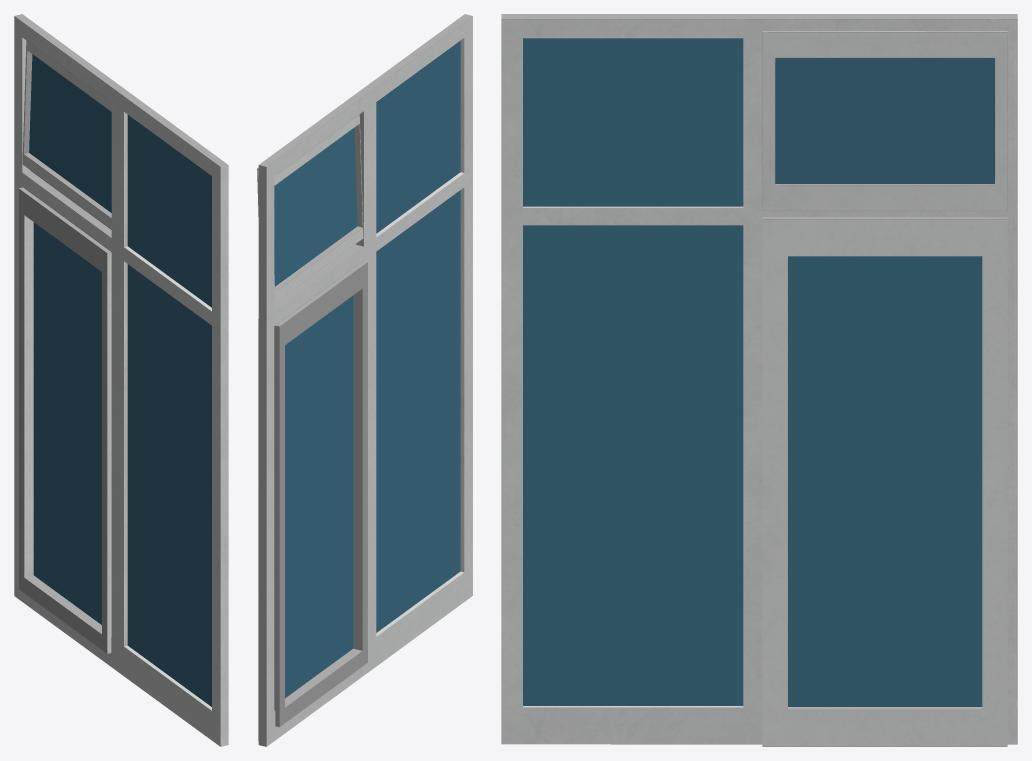
File: alu_window.glb
The picture shows the model from 3 angles, left to right: view 1: azimuth 30°, elevation 25°; view 2: azimuth 150°, elevation 25°; view 3: azimuth 270°, elevation 25°; orthographic projection. The views are drawn at different scales.
Visible parts, largest first — view 1: frameBody_low, glassLeftBottom_low, glassRightBottom_low, frameRightBottom_low, glassLeftTop_low, glassRightTop_low, frameRightTop_low; view 2: frameBody_low, glassLeftBottom_low, glassRightBottom_low, frameRightBottom_low, glassLeftTop_low, glassRightTop_low, frameRightTop_low; view 3: glassLeftBottom_low, glassRightBottom_low, frameBody_low, frameRightBottom_low, glassLeftTop_low, glassRightTop_low, frameRightTop_low.
Boxes of the visible parts, box(x1,y1,x2,y2) form: frameBody_low: box(14, 14, 228, 746); glassLeftBottom_low: box(127, 264, 211, 706); glassRightBottom_low: box(33, 222, 101, 624); frameRightBottom_low: box(19, 187, 111, 653); glassLeftTop_low: box(127, 115, 211, 307); glassRightTop_low: box(29, 54, 111, 212); frameRightTop_low: box(22, 40, 111, 229); frameBody_low: box(258, 14, 472, 746); glassLeftBottom_low: box(376, 190, 460, 632); glassRightBottom_low: box(285, 295, 353, 698); frameRightBottom_low: box(258, 261, 367, 740); glassLeftTop_low: box(376, 40, 460, 233); glassRightTop_low: box(274, 128, 357, 286); frameRightTop_low: box(257, 114, 363, 303); glassLeftBottom_low: box(523, 225, 743, 705); glassRightBottom_low: box(788, 256, 982, 706); frameBody_low: box(501, 14, 1017, 744); frameRightBottom_low: box(762, 217, 1007, 746); glassLeftTop_low: box(523, 38, 743, 206); glassRightTop_low: box(775, 58, 994, 183); frameRightTop_low: box(762, 31, 1007, 210).
Bounding box in the file's own units: 0.0636 × 2 × 1.29.
2 materials, 2 textured.
